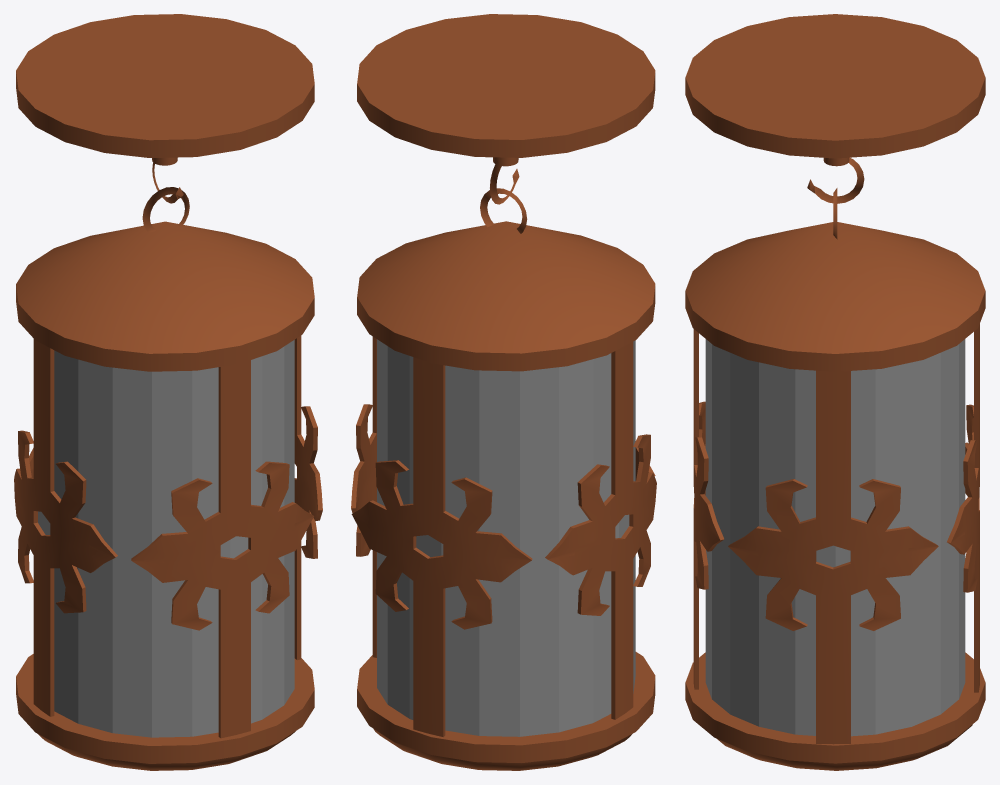
The model's file is deng5.FBX.
The picture shows the model from 3 angles, left to right: view 1: azimuth 30°, elevation 25°; view 2: azimuth 150°, elevation 25°; view 3: azimuth 270°, elevation 25°; orthographic projection.
Visible parts, largest first — view 1: Acc_Light004, 对象001; view 2: Acc_Light004, 对象001; view 3: Acc_Light004, 对象001.
Boxes of the visible parts, x1,y1,x2,y2 form: Acc_Light004: (14, 14, 322, 770); 对象001: (38, 340, 294, 737); Acc_Light004: (351, 14, 656, 770); 对象001: (377, 339, 635, 736); Acc_Light004: (685, 14, 985, 770); 对象001: (705, 339, 965, 736).
Size of the model in its own units: 0.1983 by 0.4792 by 0.1984.
